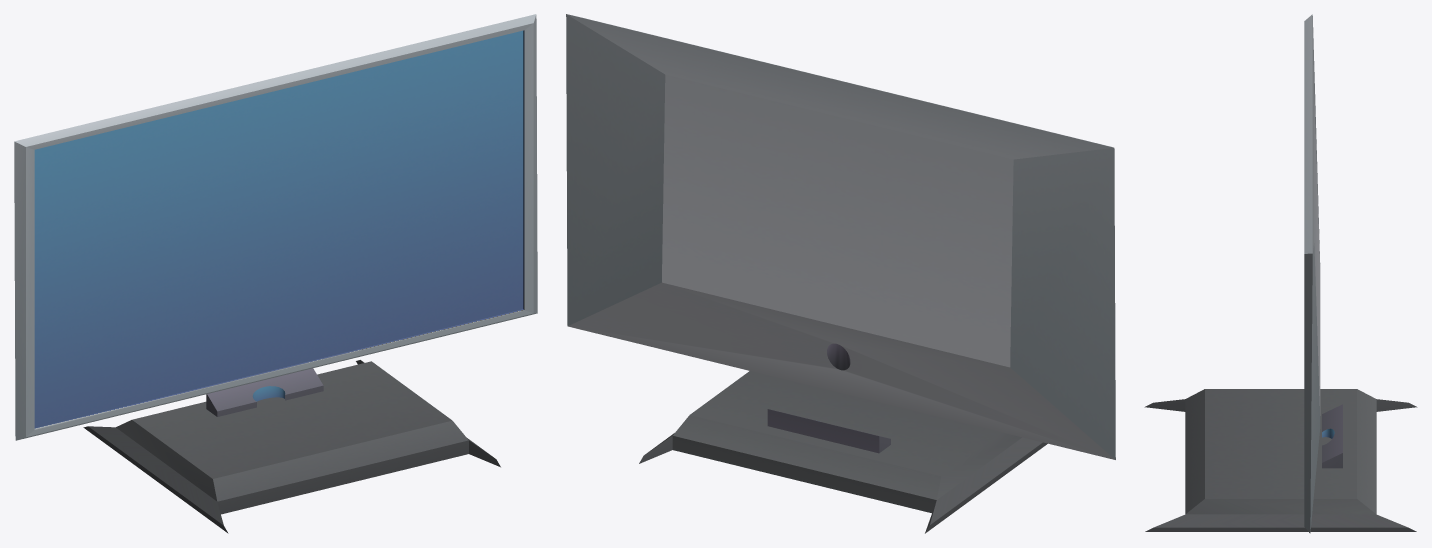
Rendered from Future Monitior.fbx.
The picture shows the model from 3 angles, left to right: view 1: azimuth 30°, elevation 25°; view 2: azimuth 150°, elevation 25°; view 3: azimuth 270°, elevation 25°; orthographic projection. The views are drawn at different scales.
Visible parts, largest first — view 1: Futuristic_Monitor:Computer1Computer1_pCube1, Futuristic_Monitor:pCube3Computer1, Futuristic_Monitor:Computer1Computer1_pCube2; view 2: Futuristic_Monitor:Computer1Computer1_pCube1, Futuristic_Monitor:pCube3Computer1, Futuristic_Monitor:Computer1Computer1_pCube2; view 3: Futuristic_Monitor:pCube3Computer1, Futuristic_Monitor:Computer1Computer1_pCube1, Futuristic_Monitor:Computer1Computer1_pCube2.
Part boxes in pixels (x1,y1,x2,y2): Futuristic_Monitor:Computer1Computer1_pCube1: (14,14,537,440); Futuristic_Monitor:pCube3Computer1: (83,360,500,533); Futuristic_Monitor:Computer1Computer1_pCube2: (206,368,323,416); Futuristic_Monitor:Computer1Computer1_pCube1: (566,14,1115,459); Futuristic_Monitor:pCube3Computer1: (639,371,1047,533); Futuristic_Monitor:Computer1Computer1_pCube2: (767,409,890,453); Futuristic_Monitor:pCube3Computer1: (1144,389,1417,531); Futuristic_Monitor:Computer1Computer1_pCube1: (1304,14,1320,533); Futuristic_Monitor:Computer1Computer1_pCube2: (1322,404,1342,468).
Size of the model in its own units: 59.51 by 38.92 by 28.71.
